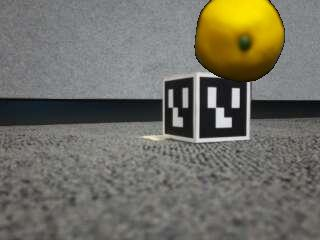lemon: (197, 0, 285, 80)
